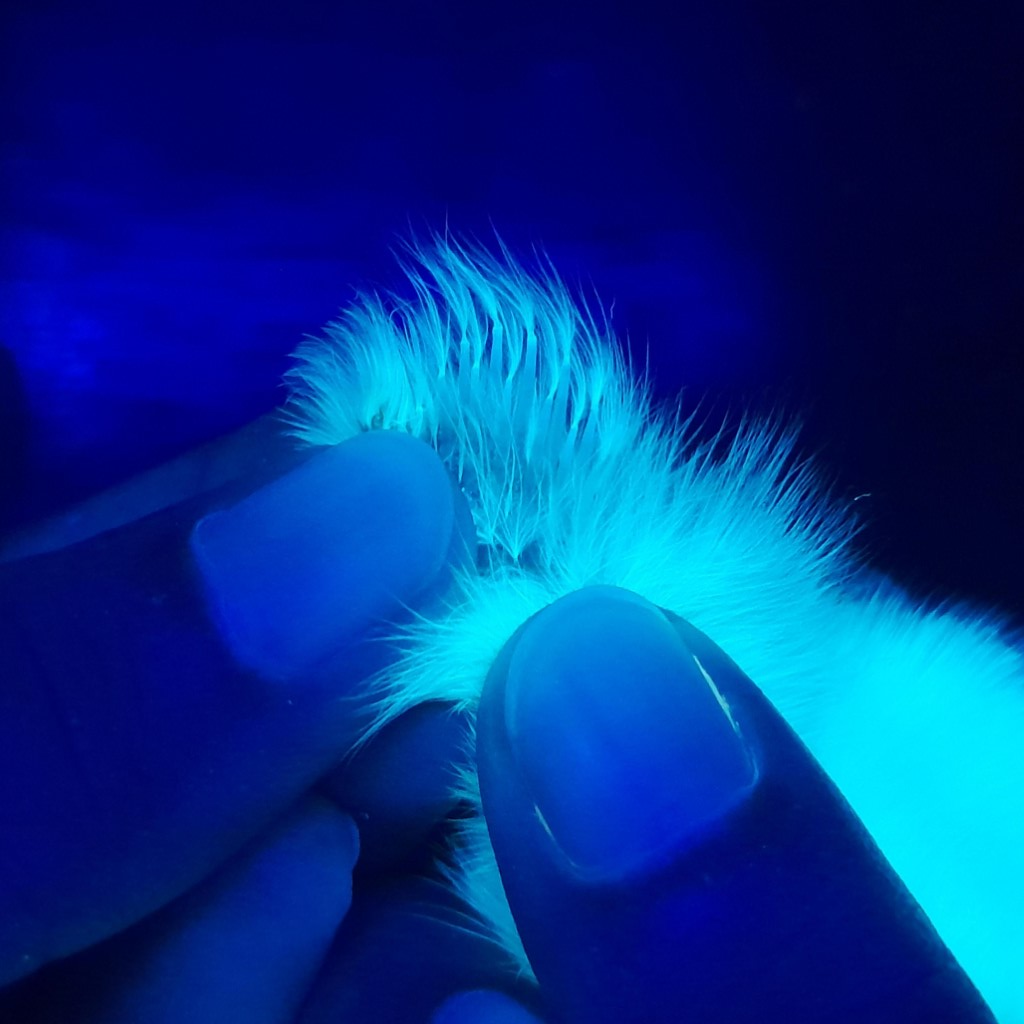female: (415, 305, 639, 591)
